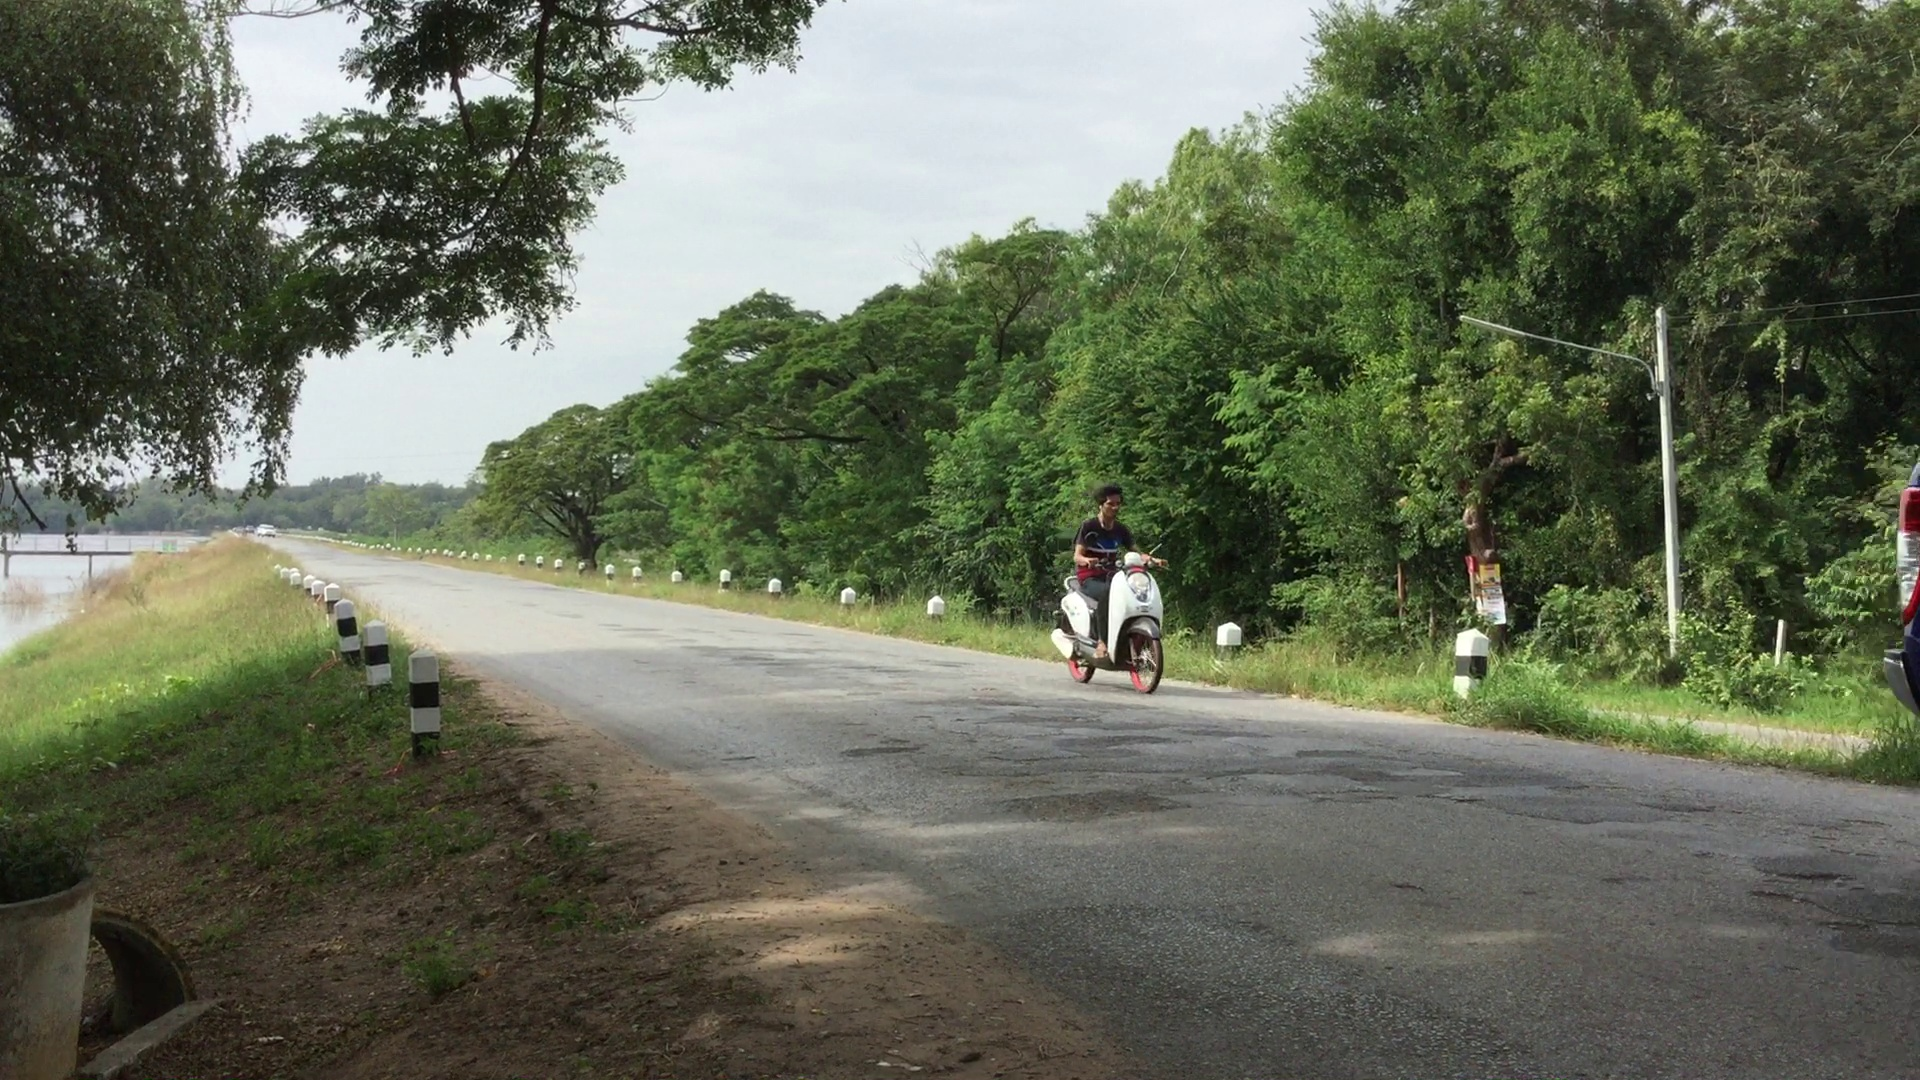person: (1053, 489, 1167, 691)
